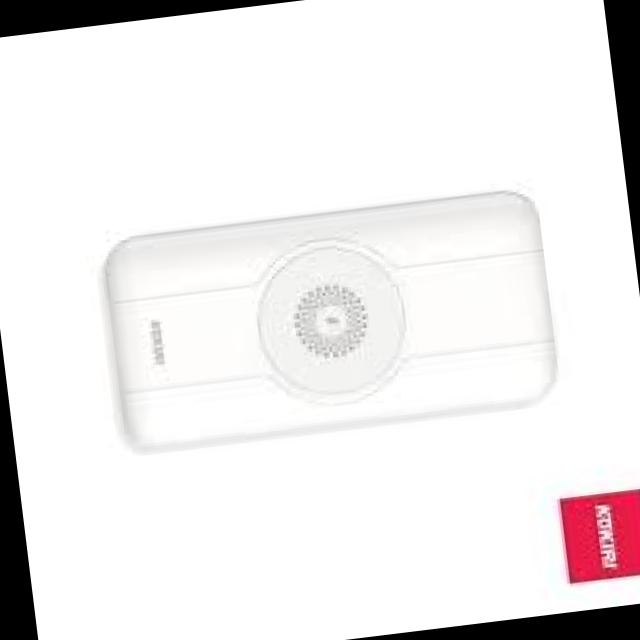portable-charger: (92, 182, 565, 457)
